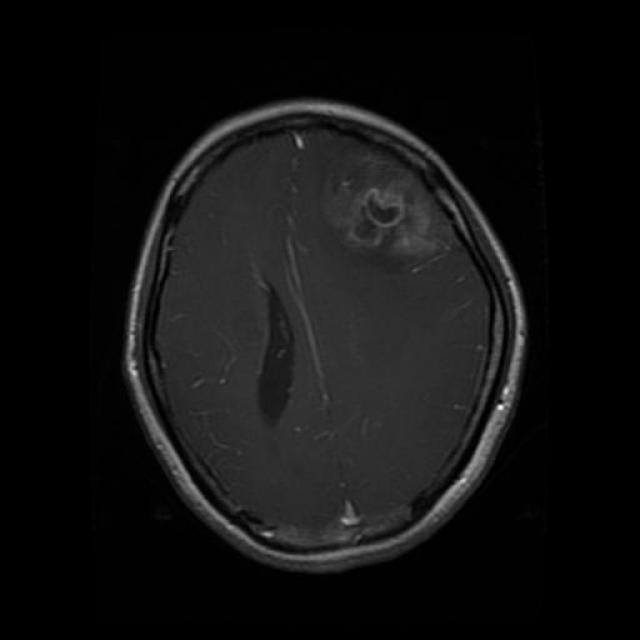Brain-Tumor: (339, 144, 448, 259)
